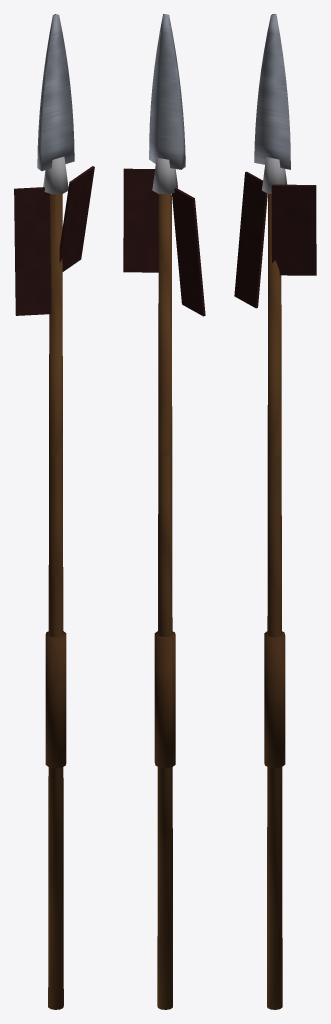
The model's file is w_ruin_spear.glb.
3 renders of one model, left to right at view 1: azimuth 30°, elevation 25°; view 2: azimuth 150°, elevation 25°; view 3: azimuth 330°, elevation 25°, orthographic.
Visible parts, largest first — view 1: w_ruin_spear; view 2: w_ruin_spear; view 3: w_ruin_spear.
Boxes of the visible parts, left/top/right/bottom form: w_ruin_spear: left=14, top=14, right=94, bottom=1009; w_ruin_spear: left=123, top=14, right=205, bottom=1009; w_ruin_spear: left=234, top=14, right=316, bottom=1009.
Size of the model in its own units: 0.2077 by 2.45 by 0.0846.
5 materials, 4 textured.
